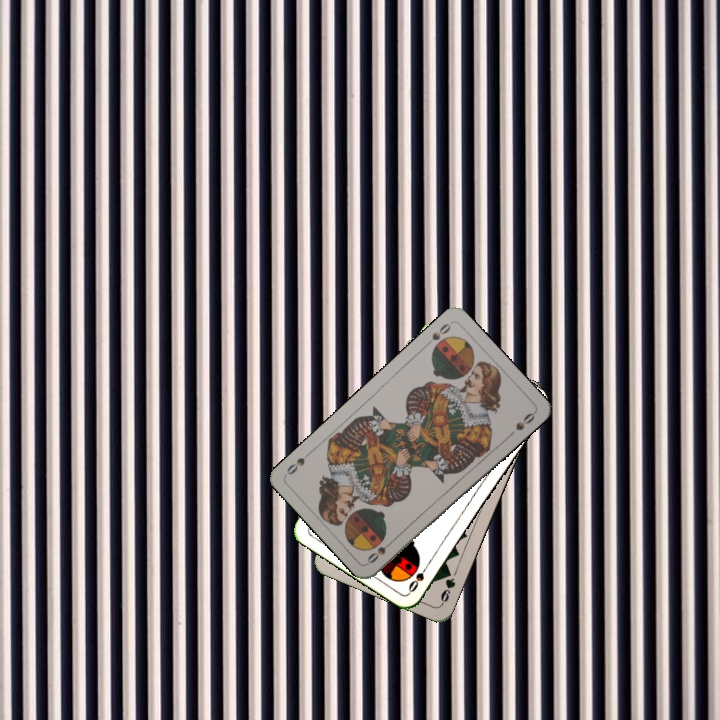G9: (437, 566, 458, 607)
SO: (421, 318, 454, 350), (363, 535, 397, 566), (404, 559, 432, 595)
